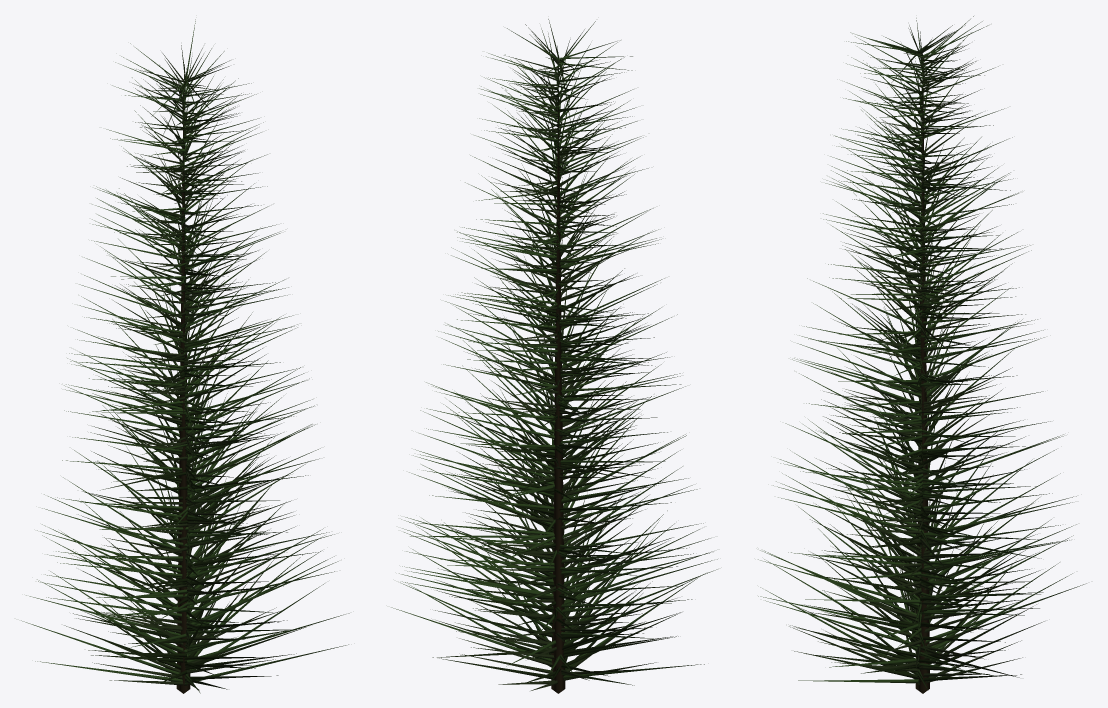
File: tree.FBX
The picture shows the model from 3 angles, left to right: view 1: azimuth 30°, elevation 25°; view 2: azimuth 150°, elevation 25°; view 3: azimuth 270°, elevation 25°; orthographic projection. The views are drawn at different scales.
Parts seen in each view (by area): view 1: Cylinder525; view 2: Cylinder525; view 3: Cylinder525.
Boxes of the visible parts, x1=… form: Cylinder525: x1=21, y1=19, x2=349, y2=693; Cylinder525: x1=391, y1=19, x2=717, y2=693; Cylinder525: x1=758, y1=16, x2=1086, y2=693.
Size of the model in its own units: 9.96 by 20.84 by 9.42.
